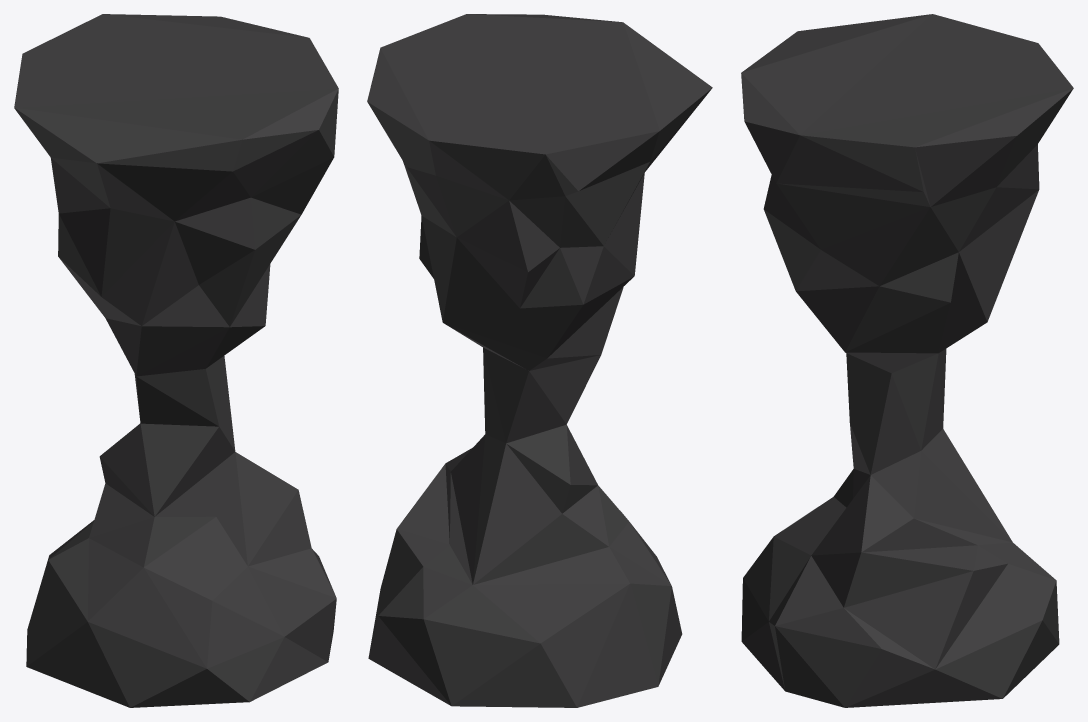
Rendered from Stal_3A.fbx.
3 renders of one model, left to right at view 1: azimuth 30°, elevation 25°; view 2: azimuth 150°, elevation 25°; view 3: azimuth 270°, elevation 25°, orthographic.
Visible parts, largest first — view 1: Group56715; view 2: Group56715; view 3: Group56715.
Boxes of the visible parts, x1,y1,x2,y2 form: Group56715: (14,14,338,707); Group56715: (367,14,712,707); Group56715: (741,14,1073,707).
Bounding box in the file's own units: 3.09 × 5.77 × 3.06.
